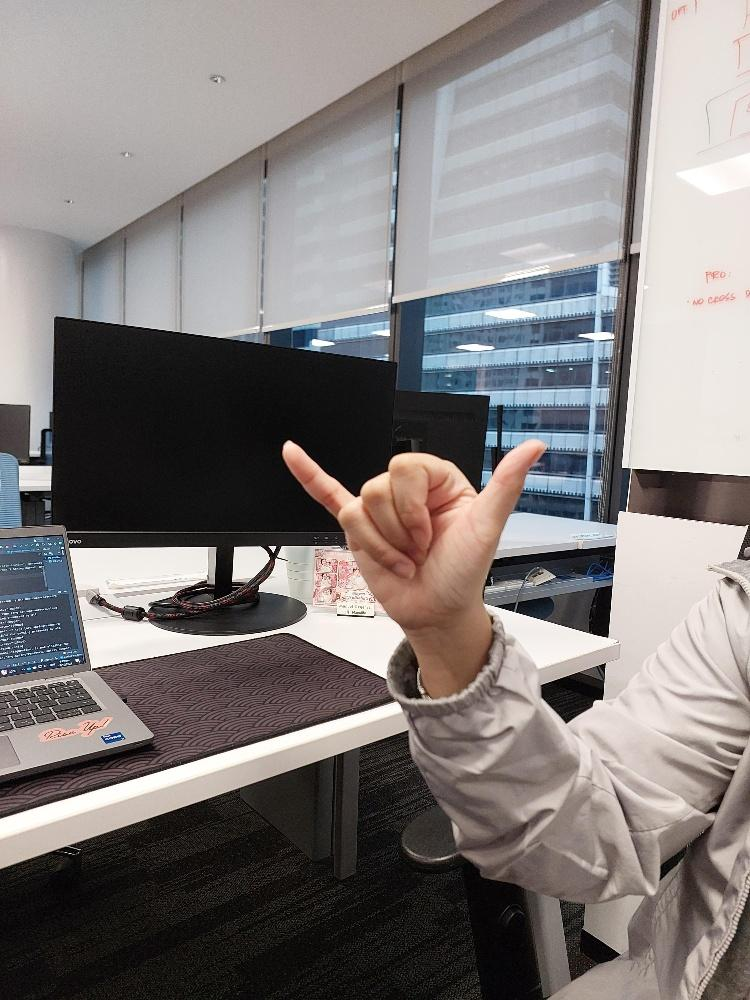y: (279, 437, 544, 626)
